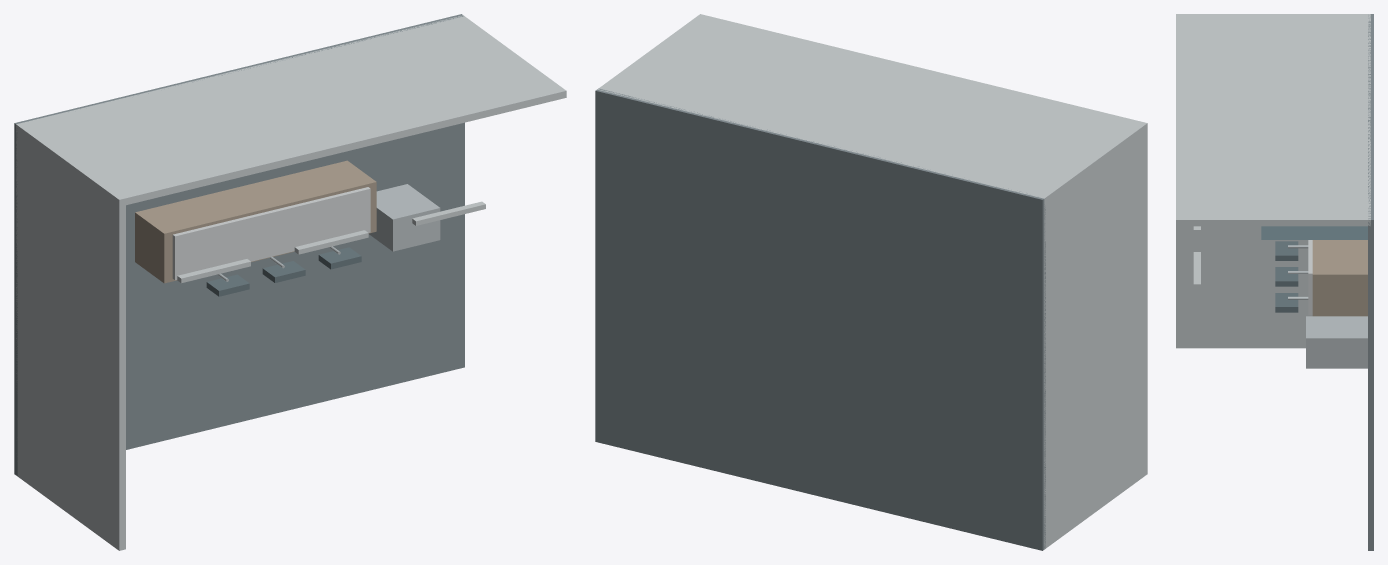
The model's file is nursing-station-medium.glb.
3 renders of one model, left to right at view 1: azimuth 30°, elevation 25°; view 2: azimuth 150°, elevation 25°; view 3: azimuth 270°, elevation 25°, orthographic. The views are drawn at different scales.
Parts seen in each view (by area): view 1: floor, wall_back, wall_left, central_desk, desk_top, medication_trolley, ceiling_panel_2, ceiling_panel_3, ceiling_panel_1; view 2: floor, wall_back, wall_left; view 3: wall_back, wall_left, central_desk, medication_trolley, floor, storage_right, monitor_20, monitor_0, monitor_10, desk_top, ceiling_panel_3.
Part boxes in pixels (left/top/right/bottom): floor: left=14, top=14, right=464, bottom=476; wall_back: left=16, top=15, right=566, bottom=206; wall_left: left=16, top=122, right=125, bottom=550; central_desk: left=135, top=160, right=376, bottom=283; desk_top: left=172, top=187, right=370, bottom=280; medication_trolley: left=369, top=184, right=440, bottom=251; ceiling_panel_2: left=294, top=230, right=368, bottom=254; ceiling_panel_3: left=412, top=201, right=485, bottom=225; ceiling_panel_1: left=177, top=259, right=250, bottom=283; floor: left=595, top=88, right=1045, bottom=550; wall_back: left=598, top=14, right=1147, bottom=204; wall_left: left=1038, top=121, right=1147, bottom=549; wall_back: left=1176, top=14, right=1370, bottom=226; wall_left: left=1176, top=14, right=1370, bottom=348; central_desk: left=1312, top=240, right=1367, bottom=316; medication_trolley: left=1306, top=316, right=1367, bottom=368; floor: left=1368, top=14, right=1373, bottom=550; storage_right: left=1261, top=226, right=1367, bottom=239; monitor_20: left=1275, top=293, right=1298, bottom=312; monitor_0: left=1275, top=241, right=1298, bottom=260; monitor_10: left=1275, top=267, right=1298, bottom=286; desk_top: left=1308, top=240, right=1312, bottom=314; ceiling_panel_3: left=1193, top=252, right=1200, bottom=288.
Size of the model in its own units: 8 by 6 by 3.25.
